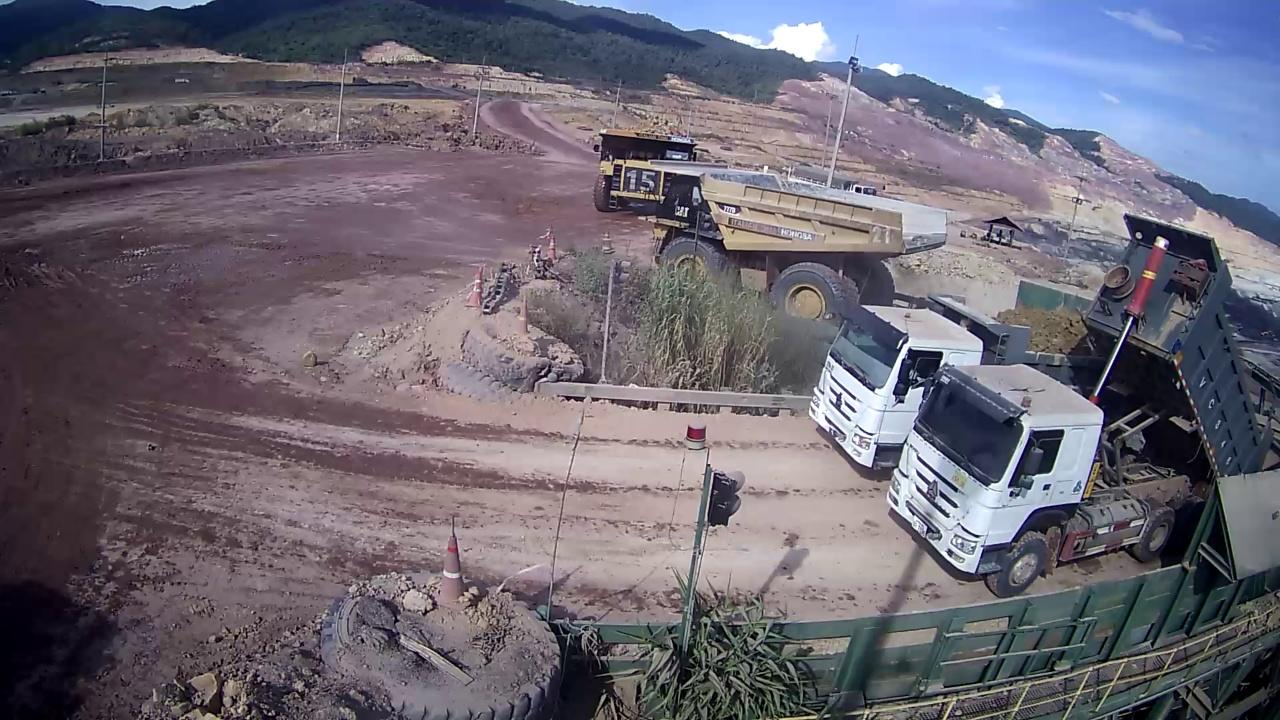company: (724, 213, 824, 248)
empty_load: (783, 172, 938, 219)
front_number: (627, 166, 660, 197)
full_load: (619, 110, 687, 139)
mining_truck: (654, 161, 952, 321), (584, 107, 700, 219)
tail_number: (870, 222, 896, 247)
truck_size: (716, 198, 746, 216)
